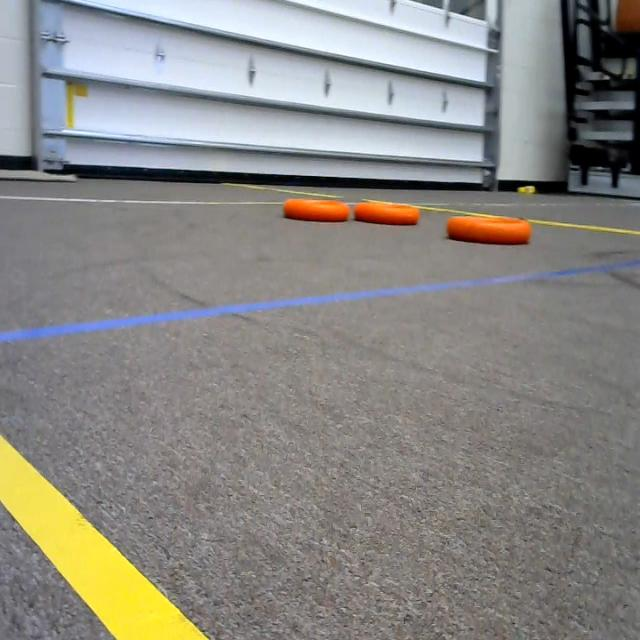note: (442, 205, 542, 265), (278, 181, 359, 233), (356, 192, 422, 231)
